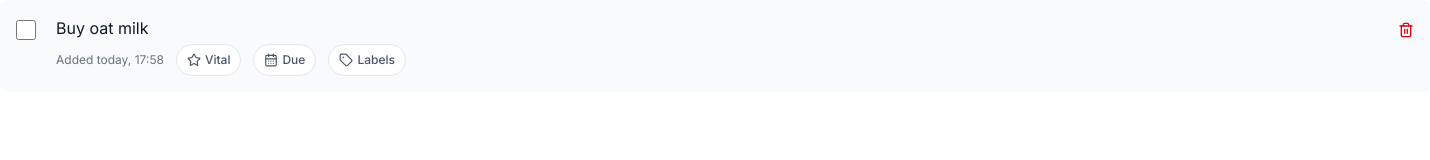
Test: taskItem › keeps the field open with an alert when the edit is empty
Click the button named "Edit \"Buy oat milk\"". click: [102, 28]
box: [56, 16, 1376, 40]
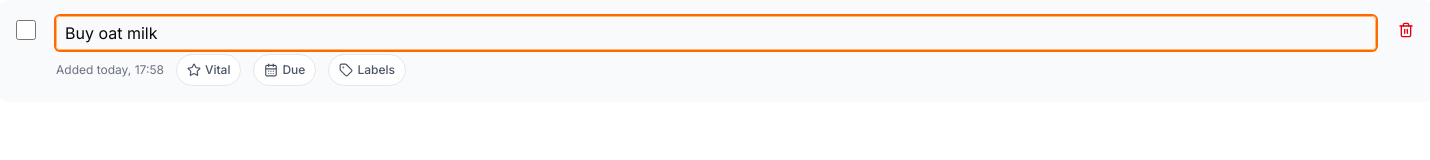
Clear the field. click: [716, 33]
box: [56, 16, 1376, 50]
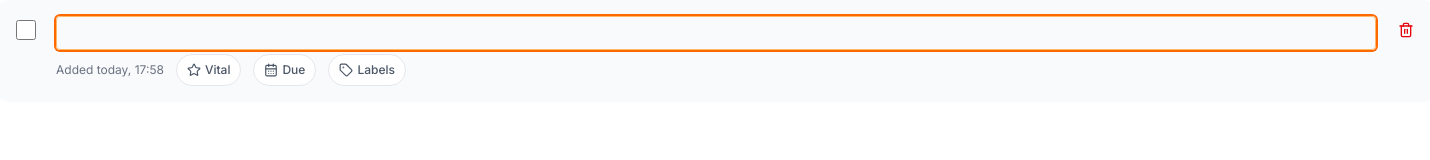
Press Enter
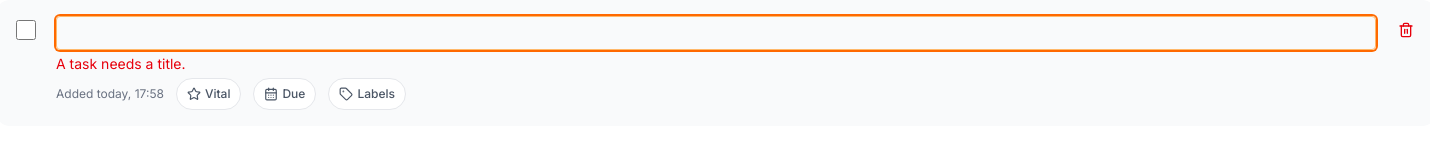
Expected: the message shows "A task needs a title", [56, 55, 186, 72]
